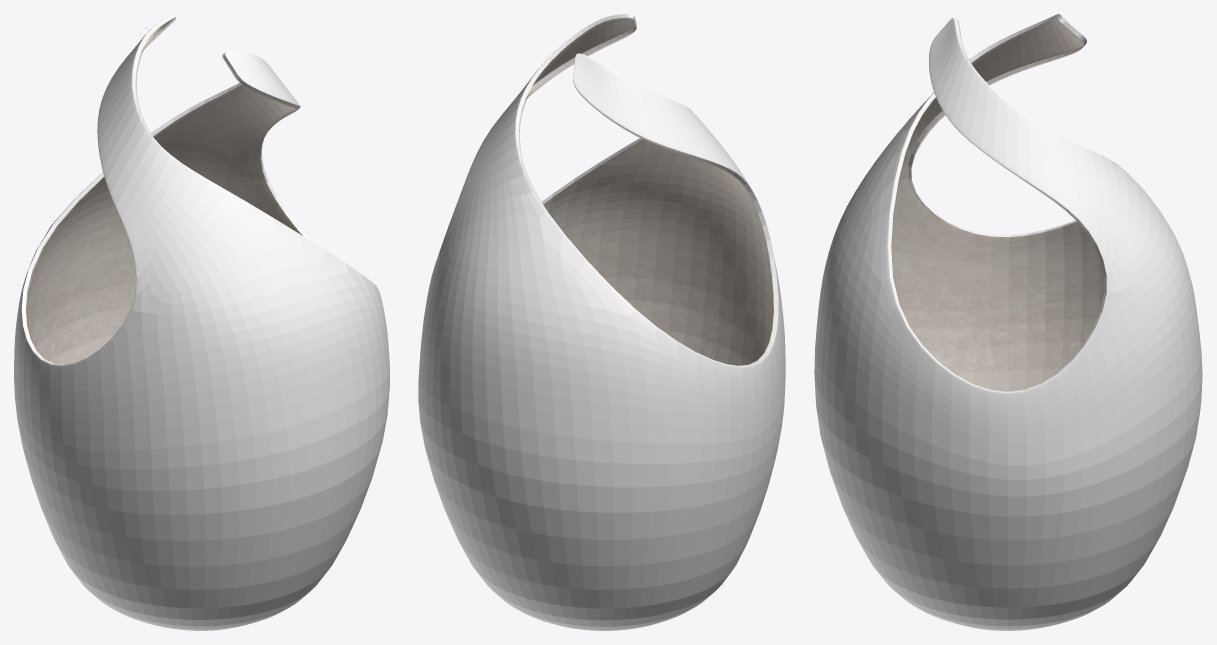
The model's file is pot1.glb.
The picture shows the model from 3 angles, left to right: view 1: azimuth 30°, elevation 25°; view 2: azimuth 150°, elevation 25°; view 3: azimuth 270°, elevation 25°; orthographic projection. The views are drawn at different scales.
Parts seen in each view (by area): view 1: Vase kelly hoppen ARIA VASE N130319; view 2: Vase kelly hoppen ARIA VASE N130319; view 3: Vase kelly hoppen ARIA VASE N130319.
Part boxes in pixels (x1,y1,x2,y2): Vase kelly hoppen ARIA VASE N130319: (14, 14, 389, 630); Vase kelly hoppen ARIA VASE N130319: (418, 14, 785, 630); Vase kelly hoppen ARIA VASE N130319: (814, 14, 1202, 630).
Size of the model in its own units: 91.02 by 152 by 91.99.
2 materials, 1 textured.
